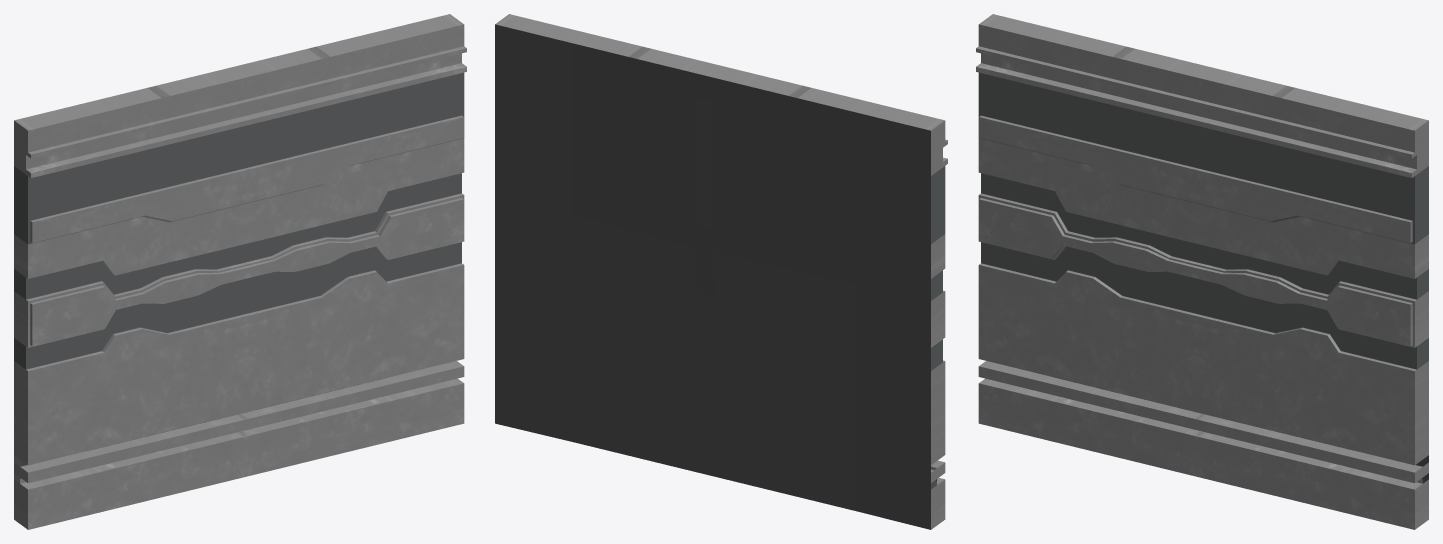
The model's file is Wall_Tile_02.fbx.
The picture shows the model from 3 angles, left to right: view 1: azimuth 30°, elevation 25°; view 2: azimuth 150°, elevation 25°; view 3: azimuth 330°, elevation 25°; orthographic projection.
Parts seen in each view (by area): view 1: Wall_Tile_02; view 2: Wall_Tile_02; view 3: Wall_Tile_02.
Part boxes in pixels (x1,y1,x2,y2): Wall_Tile_02: [14, 14, 466, 529]; Wall_Tile_02: [495, 14, 947, 529]; Wall_Tile_02: [976, 14, 1428, 529].
Size of the model in its own units: 400 by 350 by 26.93.
